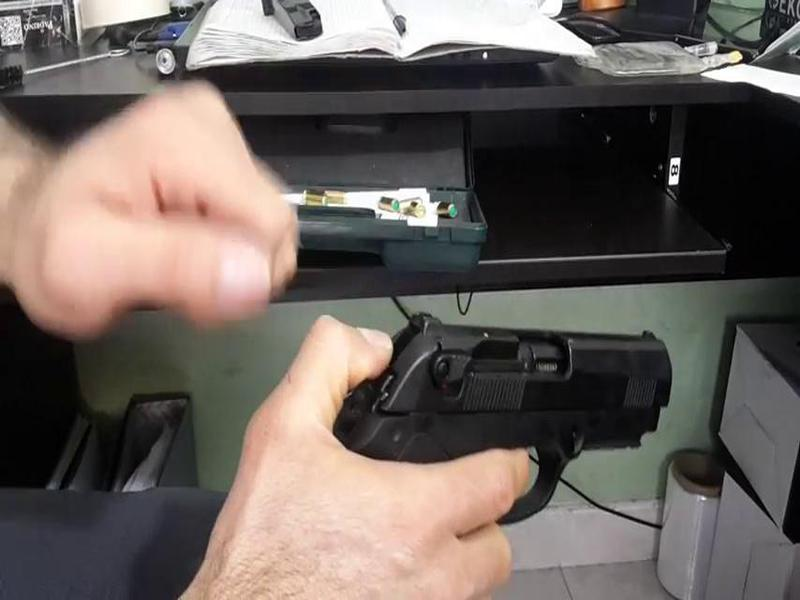Pistola: (327, 305, 675, 499)
